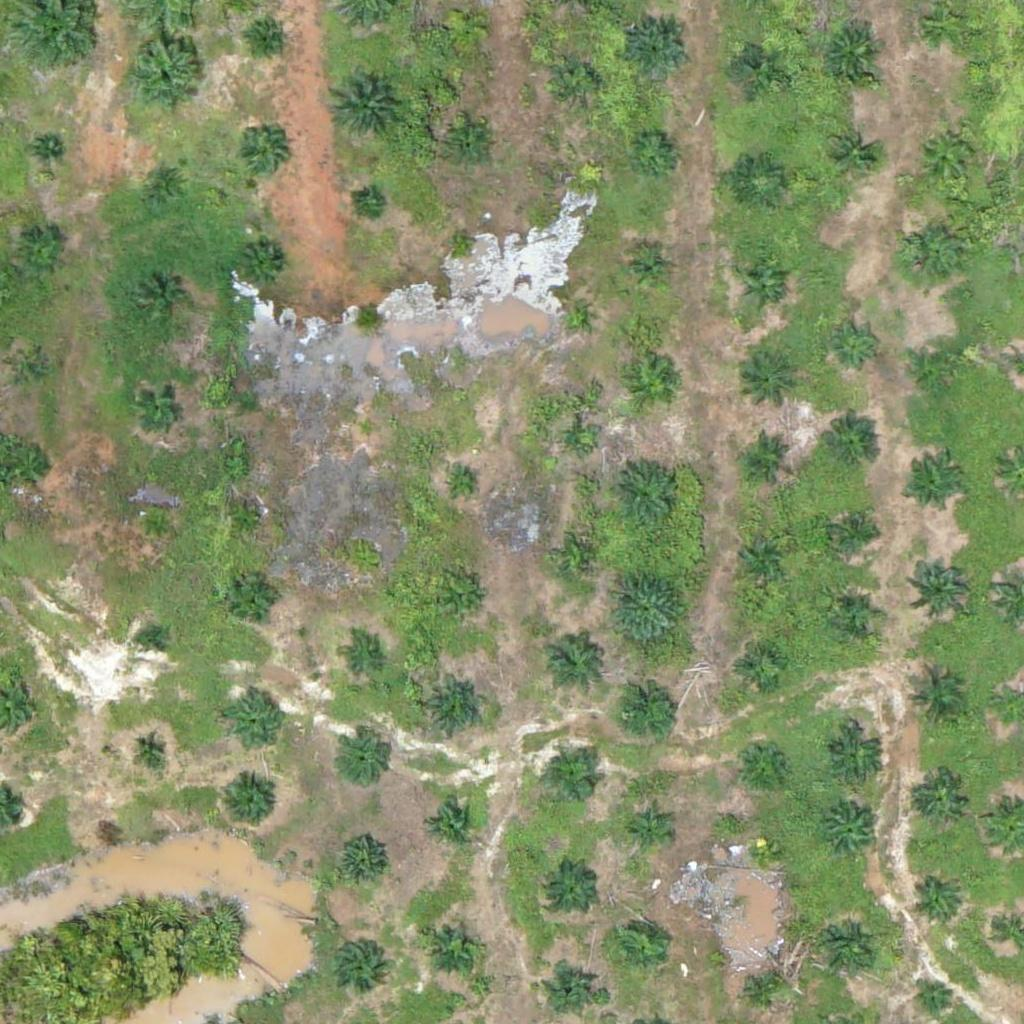Kelapa_Sawit: (121, 32, 209, 120), (606, 456, 681, 532), (610, 674, 685, 750), (610, 570, 685, 646), (327, 68, 402, 144), (539, 629, 602, 692), (824, 725, 887, 788), (424, 675, 487, 738), (740, 349, 803, 412), (898, 220, 961, 283), (627, 18, 690, 81), (819, 418, 882, 481), (903, 456, 965, 519), (816, 917, 878, 980), (904, 669, 966, 732), (907, 553, 969, 616), (218, 772, 280, 835), (422, 914, 484, 977), (222, 690, 284, 753), (822, 22, 884, 85), (916, 123, 978, 186), (821, 804, 883, 866), (8, 441, 58, 492), (338, 734, 388, 785), (335, 835, 385, 886), (426, 799, 476, 850), (228, 571, 278, 622), (734, 157, 784, 208), (732, 39, 782, 90), (553, 55, 603, 106), (441, 1, 491, 52), (629, 128, 679, 179), (827, 128, 877, 179), (913, 341, 963, 392), (831, 318, 881, 369), (739, 260, 789, 311), (547, 960, 597, 1010), (550, 754, 600, 804), (546, 864, 596, 914), (736, 737, 786, 787), (735, 641, 785, 691), (917, 772, 967, 822), (613, 920, 663, 970), (332, 938, 382, 988), (628, 362, 678, 412), (740, 963, 790, 1013), (447, 122, 497, 172), (829, 507, 879, 557), (831, 591, 881, 641), (737, 527, 787, 577), (742, 432, 792, 482), (624, 245, 674, 295), (912, 876, 962, 926), (236, 128, 286, 178), (239, 242, 289, 292), (136, 381, 186, 431), (136, 274, 186, 324), (143, 160, 193, 210), (16, 230, 66, 280), (628, 810, 666, 848), (341, 640, 379, 678), (915, 978, 953, 1016), (446, 583, 483, 621), (133, 731, 170, 769), (137, 507, 175, 544), (11, 352, 49, 389), (230, 501, 267, 539), (356, 191, 381, 217), (568, 547, 593, 573), (561, 302, 586, 327), (566, 430, 591, 455), (449, 473, 474, 498), (449, 229, 474, 254), (749, 838, 774, 863), (139, 628, 164, 653), (257, 27, 282, 52), (355, 418, 380, 443), (35, 137, 59, 162)
